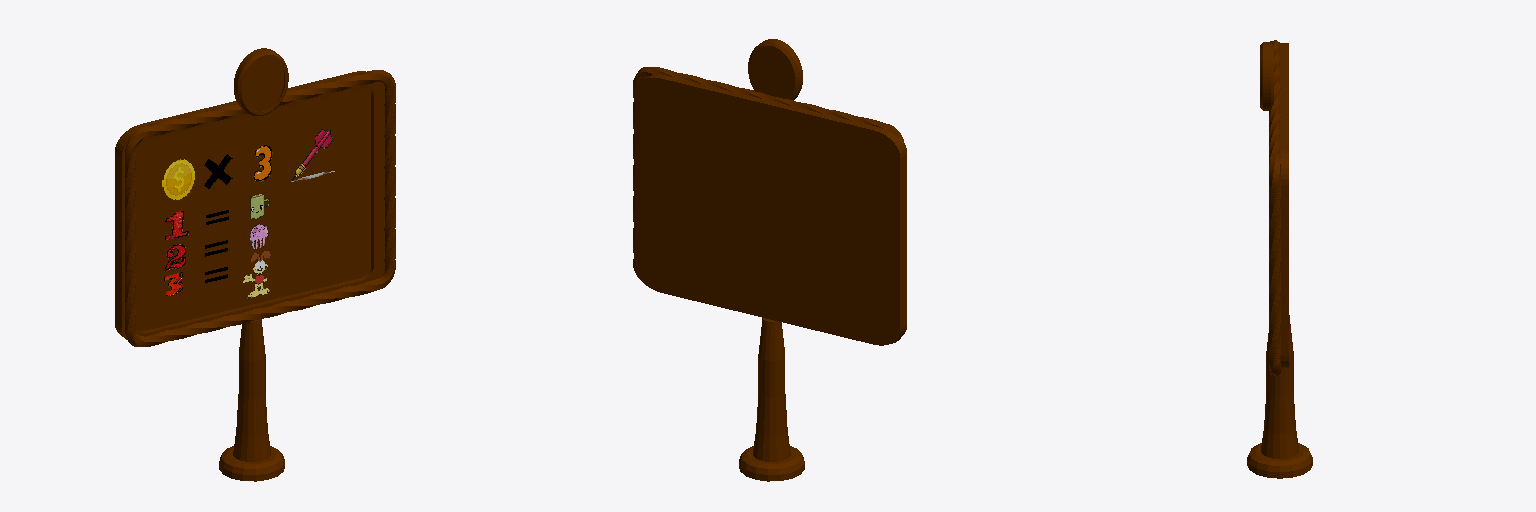
The picture shows the model from 3 angles: view 1: azimuth 30°, elevation 25°; view 2: azimuth 150°, elevation 25°; view 3: azimuth 270°, elevation 25°; orthographic projection.
Visible parts, largest first — view 1: Connect; view 2: Connect; view 3: Connect.
Part boxes in pixels (bbox=[...]): Connect: bbox=[115, 48, 395, 481]; Connect: bbox=[633, 39, 906, 481]; Connect: bbox=[1247, 40, 1312, 478].
Size of the model in its own units: 0.589 by 0.8668 by 0.1236.
1 materials, 1 textured.